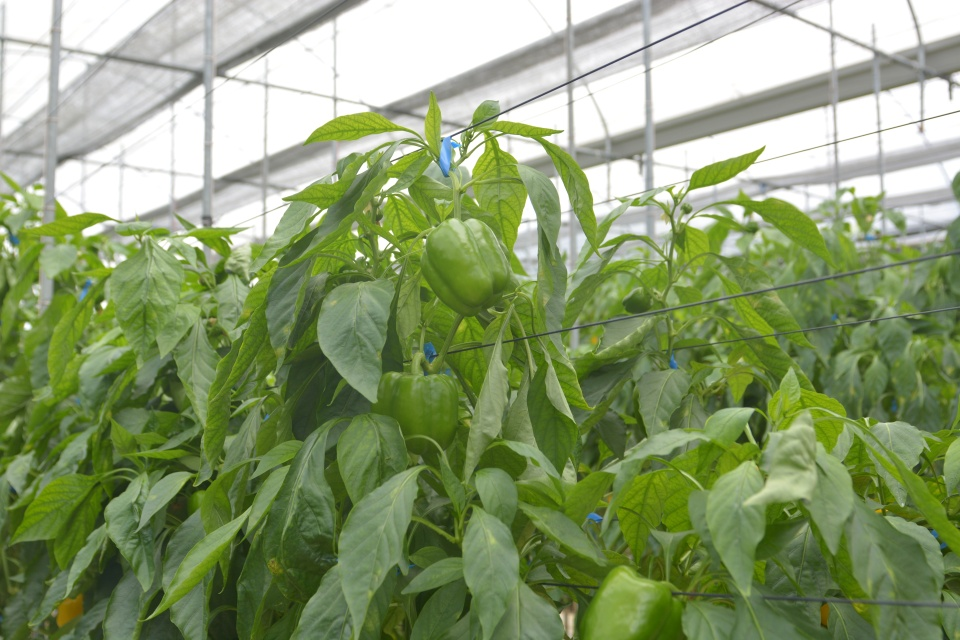fruit: (416, 213, 512, 320), (576, 563, 687, 640), (371, 368, 462, 456)
immature: (620, 283, 656, 316)
